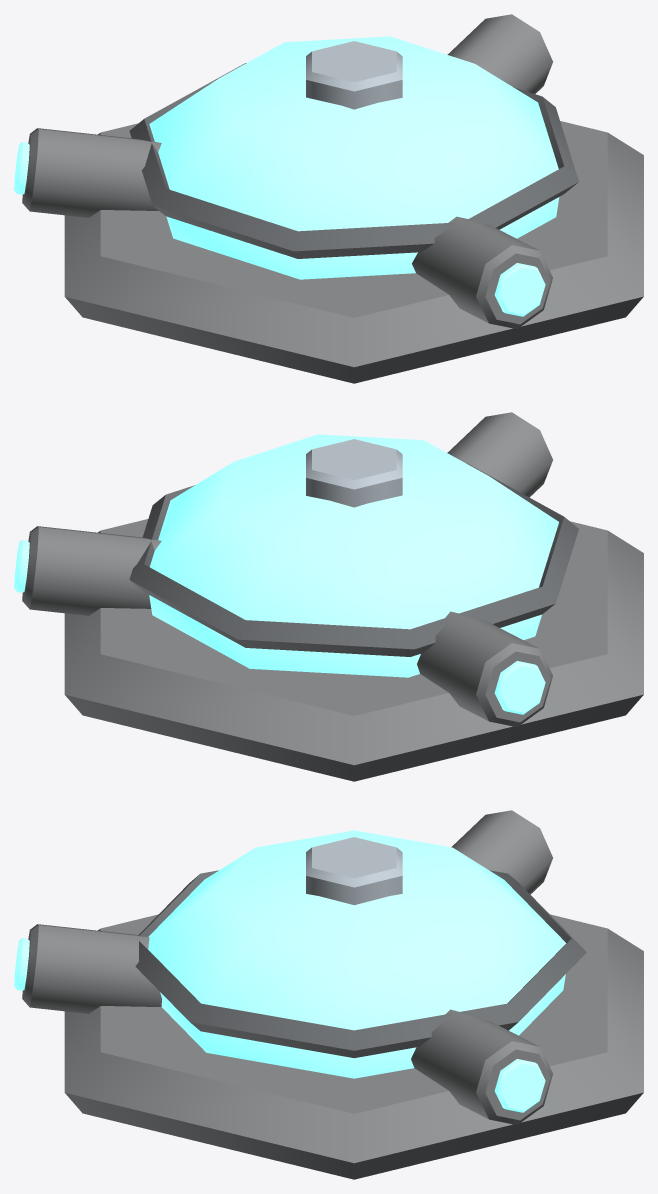
File: R4D_SlowTrap_LOD1.glb
The picture shows the model from 3 angles, top to bottom: view 1: azimuth 30°, elevation 25°; view 2: azimuth 150°, elevation 25°; view 3: azimuth 270°, elevation 25°; orthographic projection.
Visible parts, largest first — view 1: R4D_SlowTrap_LOD1; view 2: R4D_SlowTrap_LOD1; view 3: R4D_SlowTrap_LOD1.
Boxes of the visible parts, bbox=[...] form: R4D_SlowTrap_LOD1: bbox=[14, 14, 643, 383]; R4D_SlowTrap_LOD1: bbox=[14, 412, 643, 781]; R4D_SlowTrap_LOD1: bbox=[14, 810, 643, 1179].
Size of the model in its own units: 0.48 by 0.15 by 0.452.
